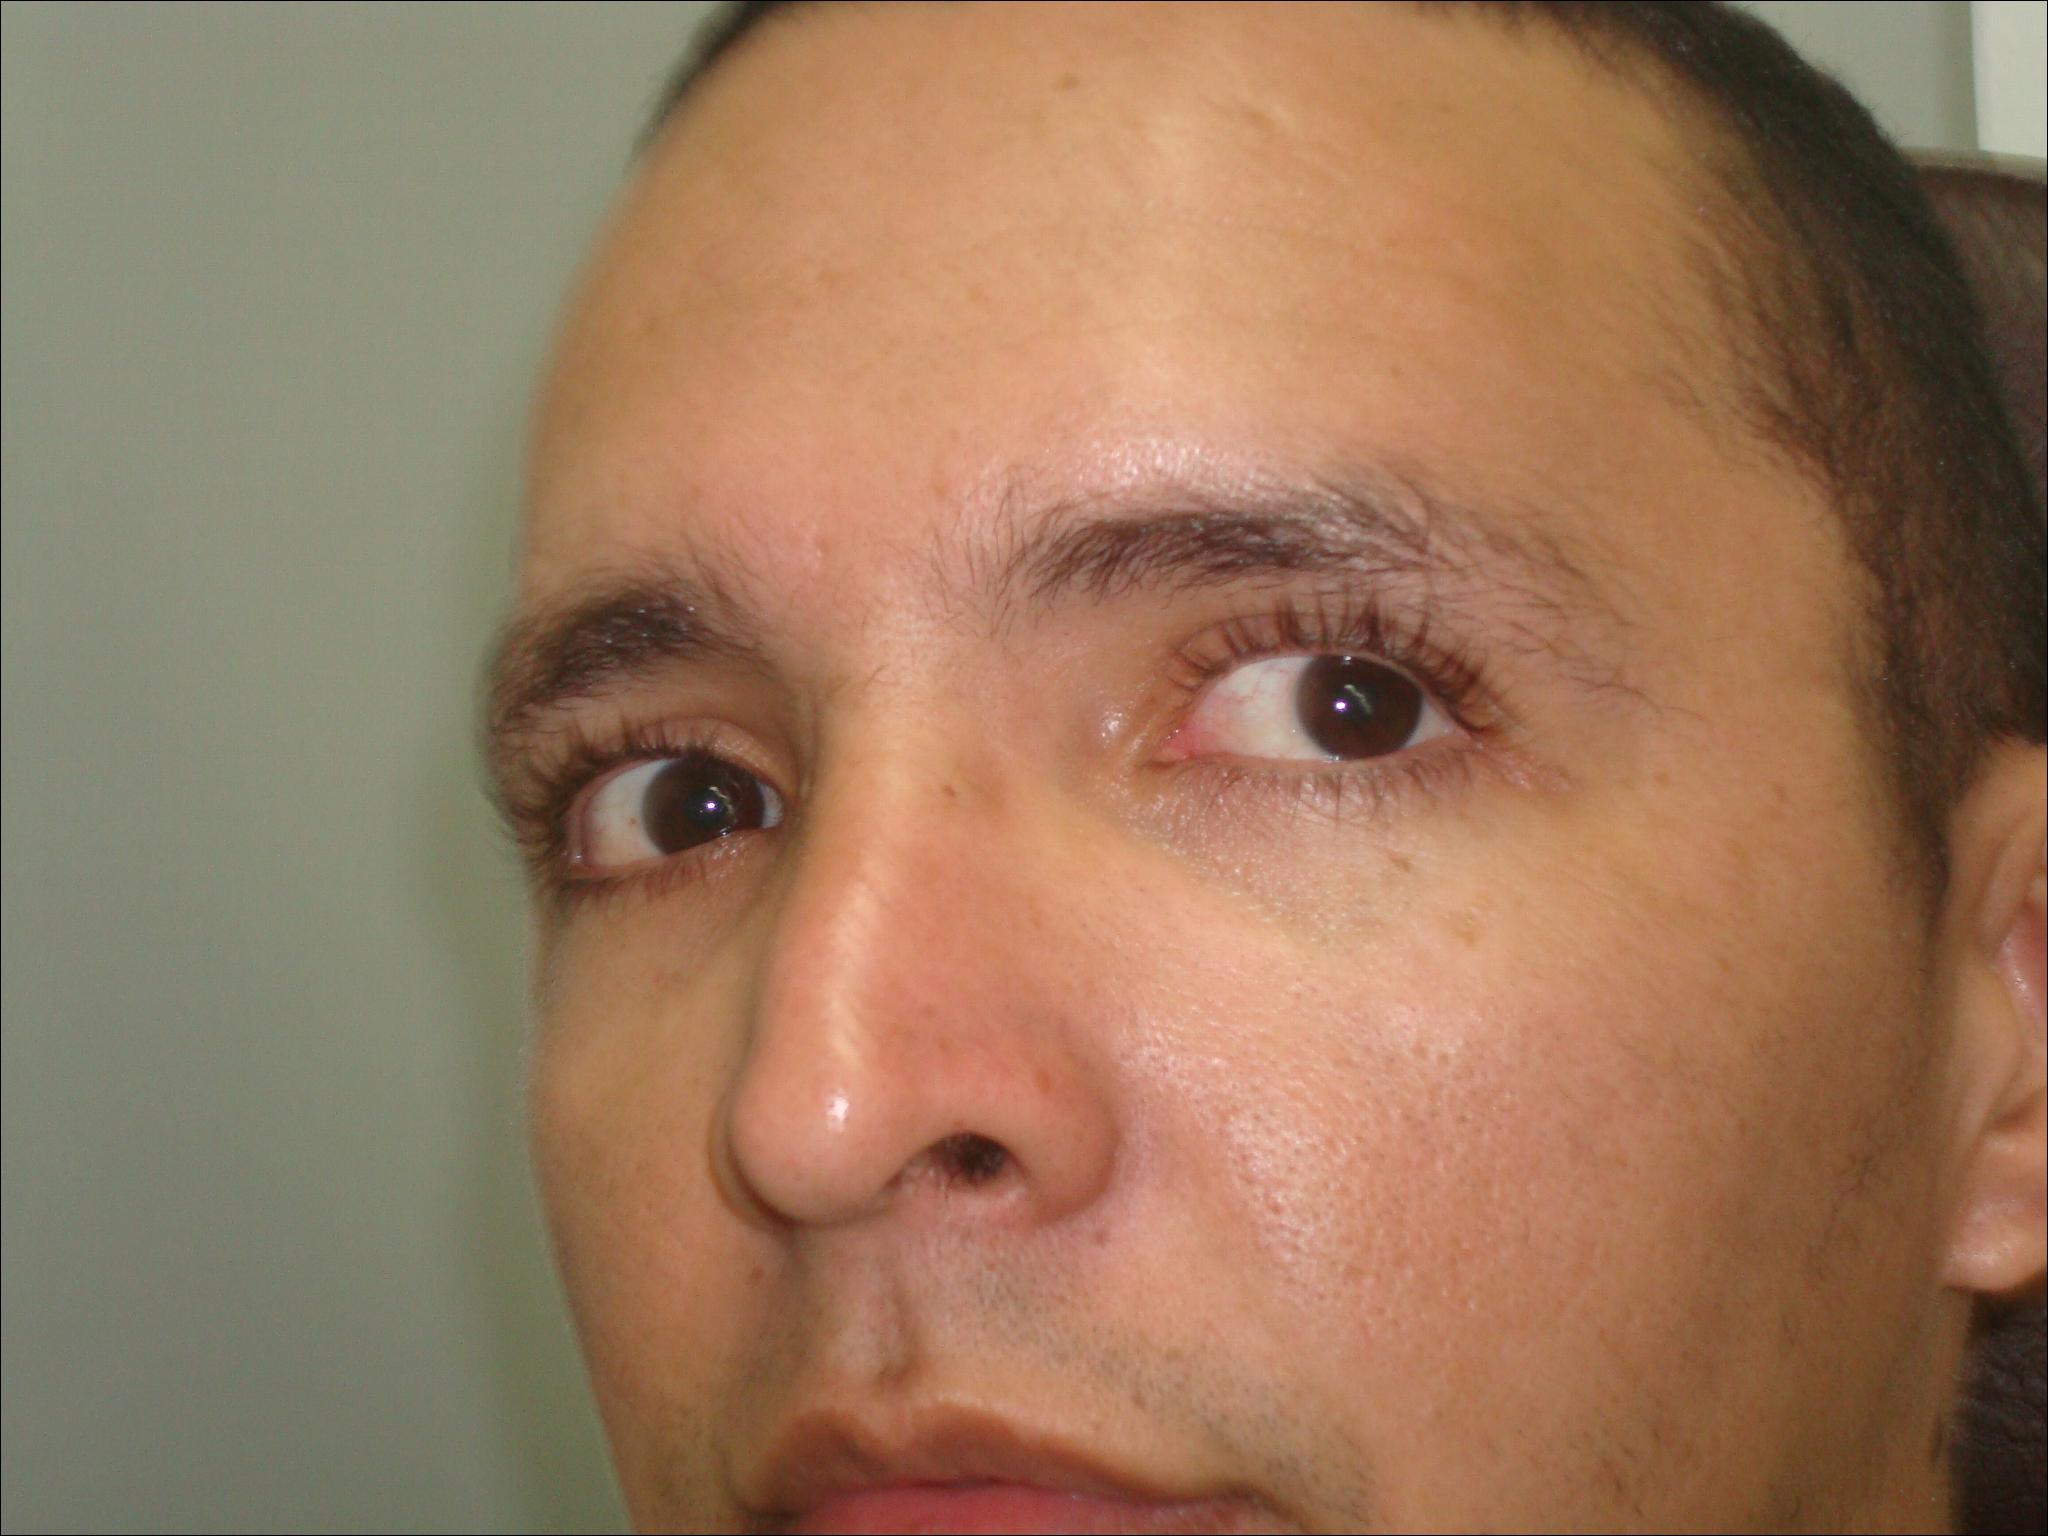flash: (1330, 697, 1351, 715), (703, 797, 719, 815)
limbo: (1293, 642, 1424, 762), (647, 755, 760, 860)
